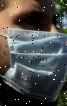with_mask: (1, 2, 67, 106)
